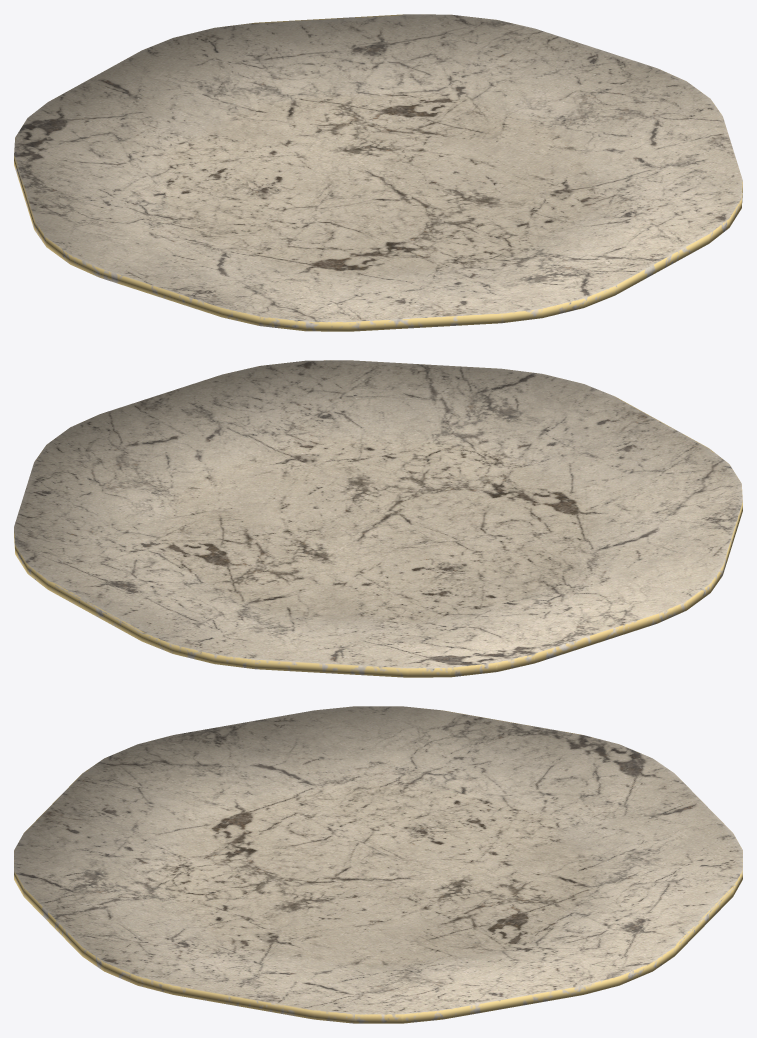
The model's file is Saucer.fbx.
The picture shows the model from 3 angles, top to bottom: view 1: azimuth 30°, elevation 25°; view 2: azimuth 150°, elevation 25°; view 3: azimuth 270°, elevation 25°; orthographic projection.
Parts seen in each view (by area): view 1: Plate.006; view 2: Plate.006; view 3: Plate.006.
Boxes of the visible parts, bbox=[...] form: Plate.006: bbox=[14, 14, 742, 331]; Plate.006: bbox=[14, 360, 742, 677]; Plate.006: bbox=[14, 706, 742, 1023].
Bounding box in the file's own units: 64.7 × 2.94 × 64.7.
